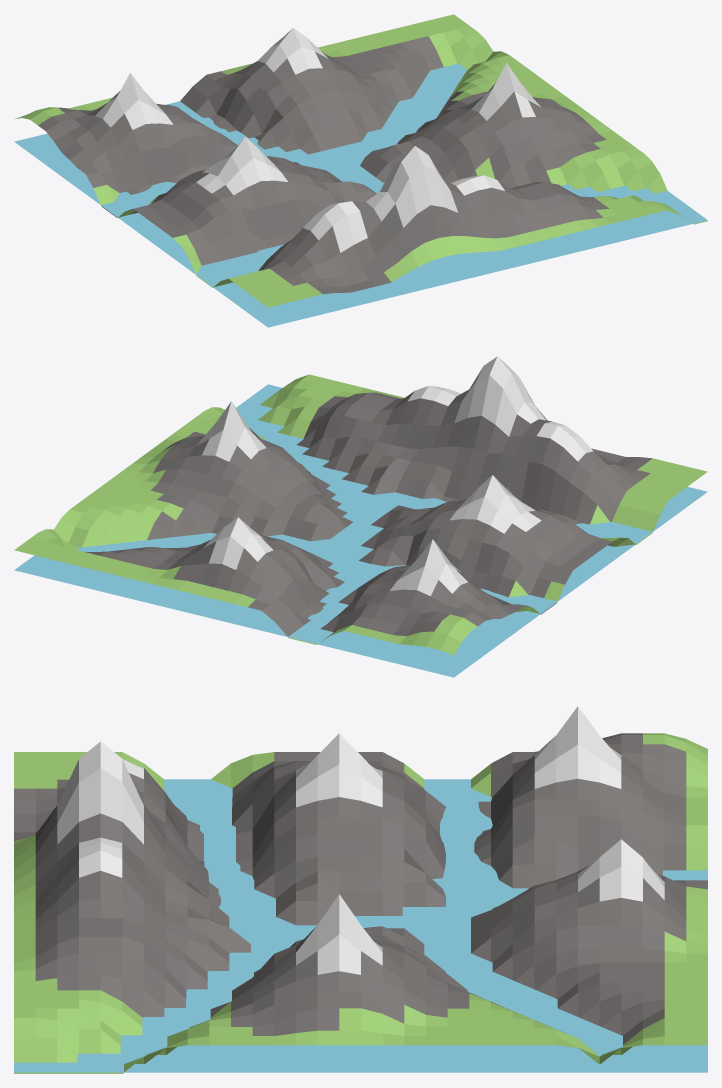
File: Mountain.fbx
The picture shows the model from 3 angles, top to bottom: view 1: azimuth 30°, elevation 25°; view 2: azimuth 150°, elevation 25°; view 3: azimuth 270°, elevation 25°; orthographic projection. The views are drawn at different scales.
Visible parts, largest first — view 1: Gory; view 2: Gory; view 3: Gory.
Boxes of the visible parts, left/top/right/bottom form: Gory: left=14, top=14, right=707, bottom=327; Gory: left=14, top=356, right=707, bottom=677; Gory: left=14, top=706, right=707, bottom=1073.
Size of the model in its own units: 2000 by 527 by 2000.
